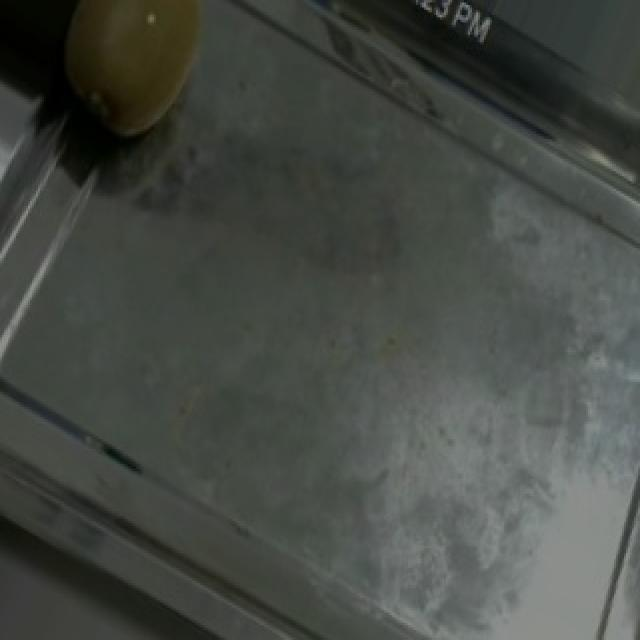Fruit: (44, 0, 244, 166)
